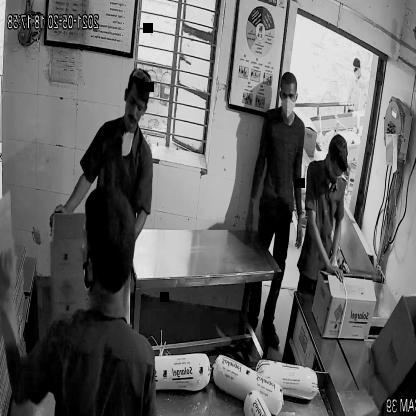no_goggles: (124, 92, 148, 115), (276, 87, 300, 105)
